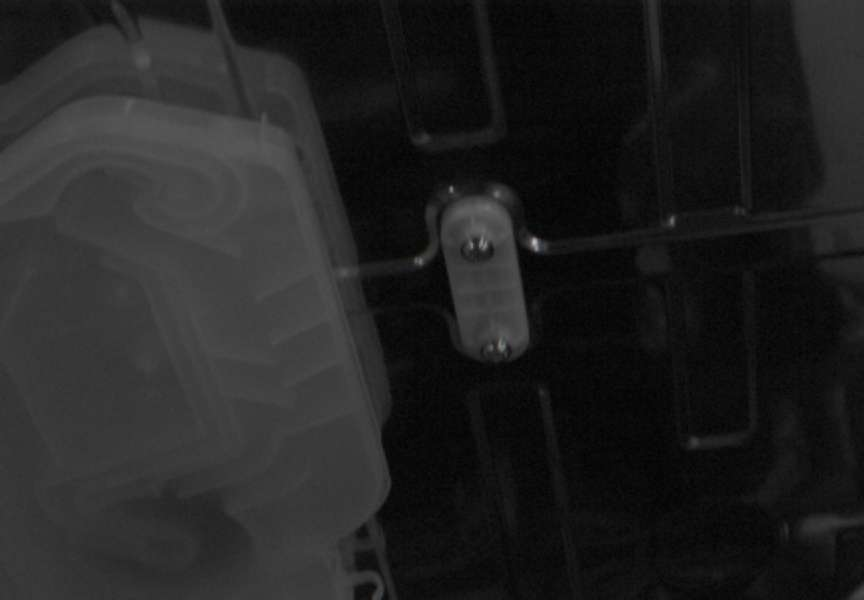screw: (461, 236, 494, 263), (481, 338, 512, 364)
